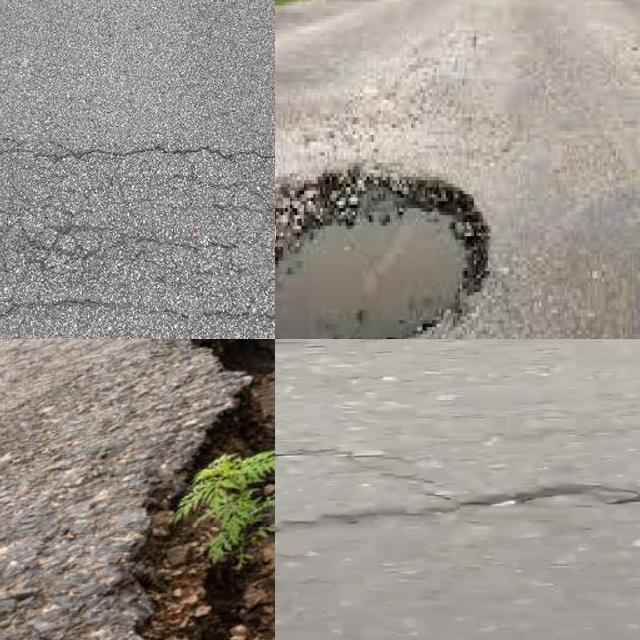Lubang: (275, 170, 495, 339)
Melintang: (275, 476, 640, 542), (0, 128, 275, 182), (0, 289, 275, 326)
Pinggir: (120, 339, 275, 640)
